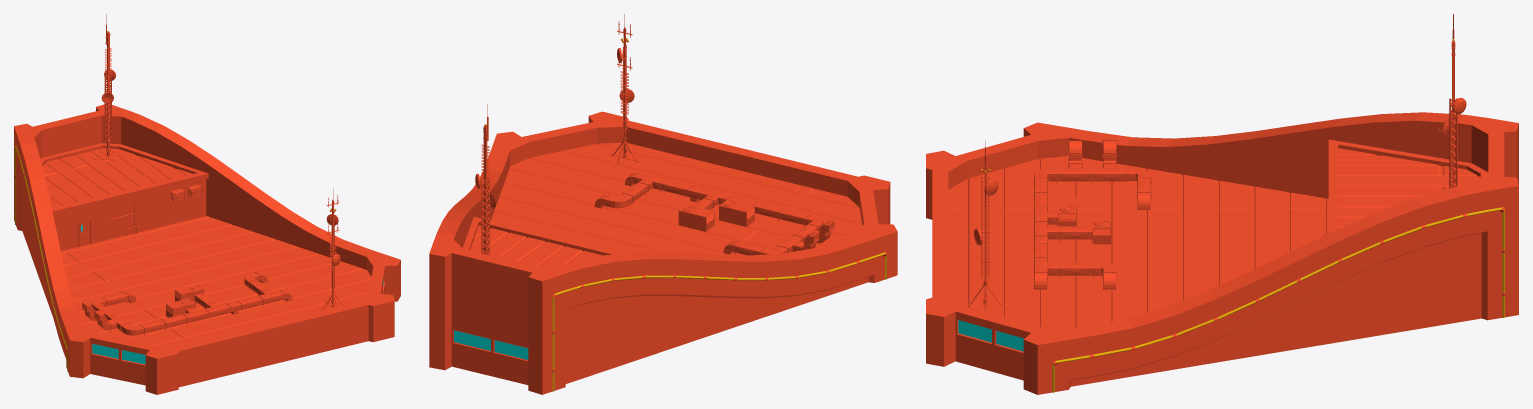
Rendered from SM_Skyscraper_C_Roof_City.fbx.
3 views of the same model, side by side, from view 1: azimuth 30°, elevation 25°; view 2: azimuth 150°, elevation 25°; view 3: azimuth 270°, elevation 25° (orthographic). The views are drawn at different scales.
Parts seen in each view (by area): view 1: SM_Skyscraper_C_Roof_City; view 2: SM_Skyscraper_C_Roof_City; view 3: SM_Skyscraper_C_Roof_City.
Part boxes in pixels (x1,y1,x2,y2): SM_Skyscraper_C_Roof_City: (14,14,400,394); SM_Skyscraper_C_Roof_City: (429,14,897,394); SM_Skyscraper_C_Roof_City: (926,14,1518,394).
Size of the model in its own units: 30.64 by 18.25 by 34.49.
